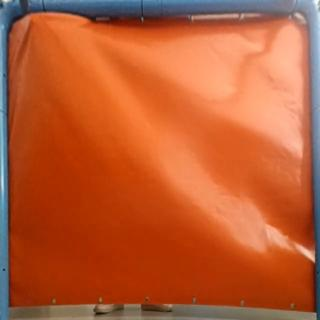Hit-hRxx: (27, 14, 38, 24)
